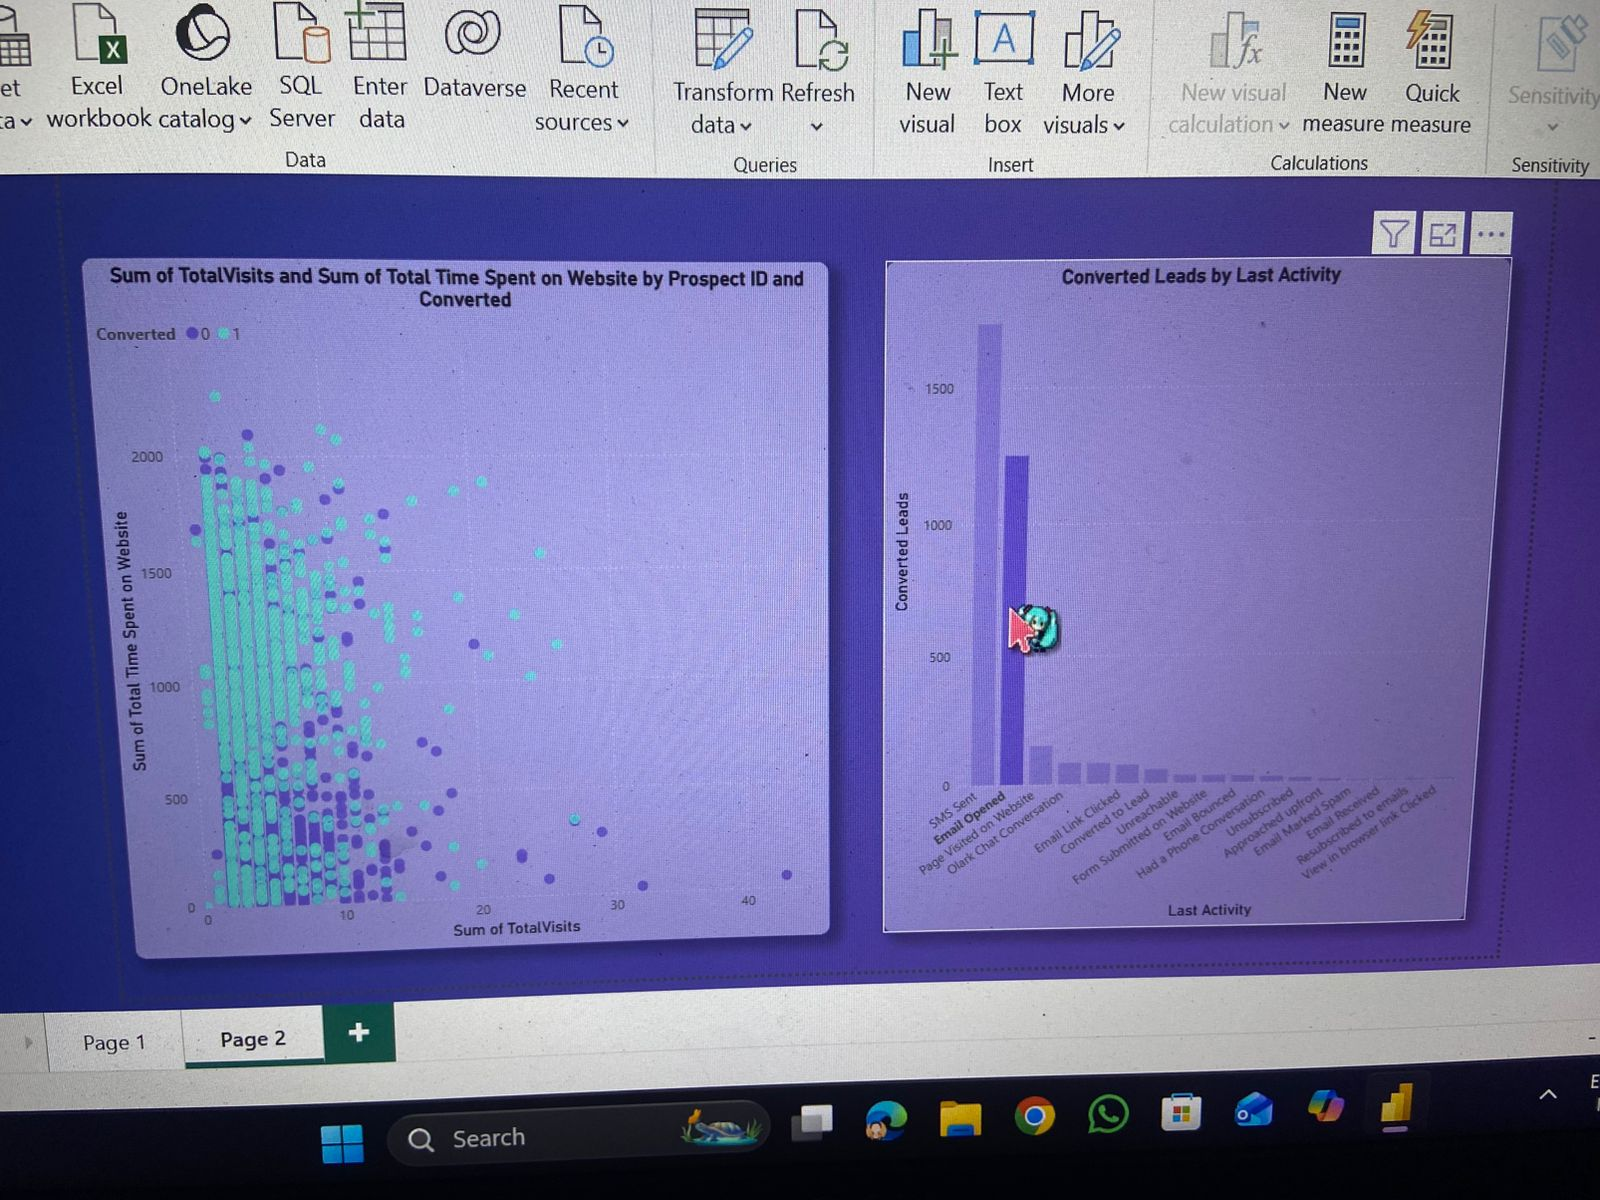

The page's visual inventory and layout, read from the dashboard file:
{"tool":"powerbi","page":{"name":"Page 2","canvas":[1280,720],"ordinal":1},"visuals":[{"type":"scatterChart","fields":{"X":["Sum(Lead Scoring.TotalVisits)"],"Y":["Sum(Lead Scoring.Total Time Spent on Website)"],"Category":["Lead Scoring.Prospect ID"],"Series":["Lead Scoring.Converted"]},"box":[13.2,68,627.4,616.1],"z":0},{"type":"columnChart","fields":{"Category":["Lead Scoring.Last Activity"],"Y":["Lead Scoring.Converted Leads"]},"box":[689.8,68,555.6,616.1],"z":1}]}

Visuals, with their boxes on the page's 1280x720 design canvas (x1, y1, x2, y2). These are canvas units, not pixel positions in the 1600x1200 screenshot, which may show the page scaled, cropped or inside an application window:
scatterChart - Sum(Lead Scoring.TotalVisits) x Sum(Lead Scoring.Total Time Spent on Website): crop(13, 68, 641, 684)
columnChart - Lead Scoring.Last Activity x Lead Scoring.Converted Leads: crop(690, 68, 1245, 684)
